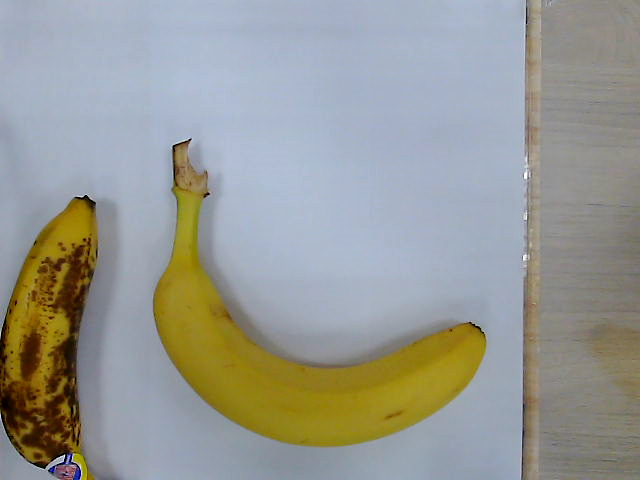fresh_banana: (154, 139, 488, 449)
rotten_banana: (1, 195, 96, 480)
